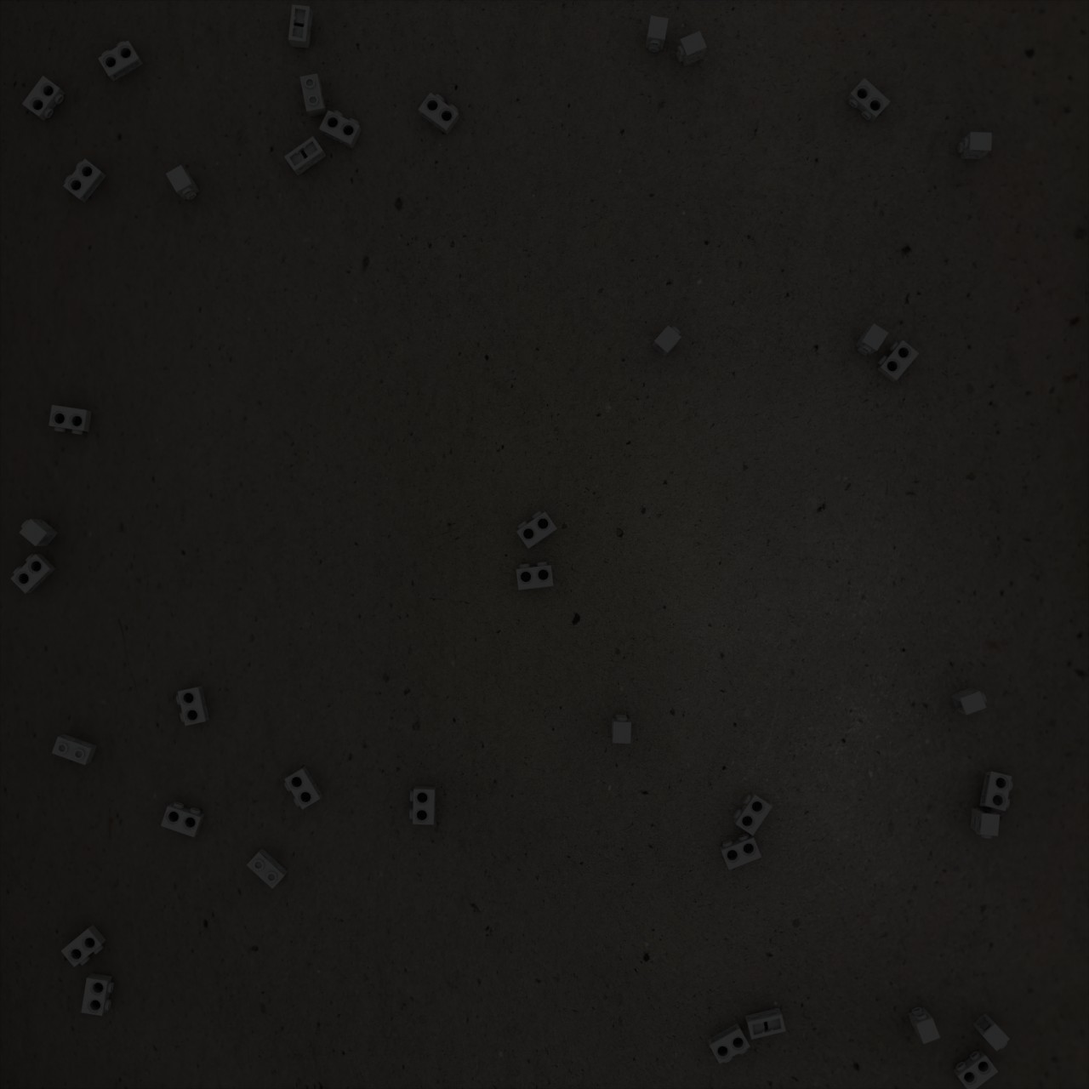lego: (63, 158, 107, 203), (22, 75, 65, 121), (847, 78, 891, 122), (61, 924, 106, 967), (98, 40, 144, 82), (10, 554, 56, 594), (953, 1049, 999, 1089), (418, 92, 460, 135), (877, 340, 919, 382), (707, 1023, 750, 1064), (733, 792, 773, 836), (246, 848, 288, 889), (284, 766, 323, 810), (284, 136, 326, 176), (319, 110, 362, 149), (516, 511, 557, 549), (719, 834, 762, 870), (161, 802, 205, 837), (972, 1013, 1010, 1051), (81, 973, 114, 1016), (52, 734, 97, 765), (176, 685, 210, 726), (979, 771, 1013, 812), (745, 1008, 786, 1040), (49, 405, 92, 435), (166, 165, 200, 200), (300, 73, 327, 117), (908, 1007, 940, 1044), (288, 4, 313, 49), (676, 31, 707, 67), (855, 323, 889, 355), (409, 786, 436, 825), (19, 519, 58, 546), (516, 562, 553, 590), (951, 688, 987, 715), (652, 325, 682, 357), (970, 807, 1000, 839), (958, 132, 992, 159), (645, 15, 669, 52), (611, 715, 631, 744)
